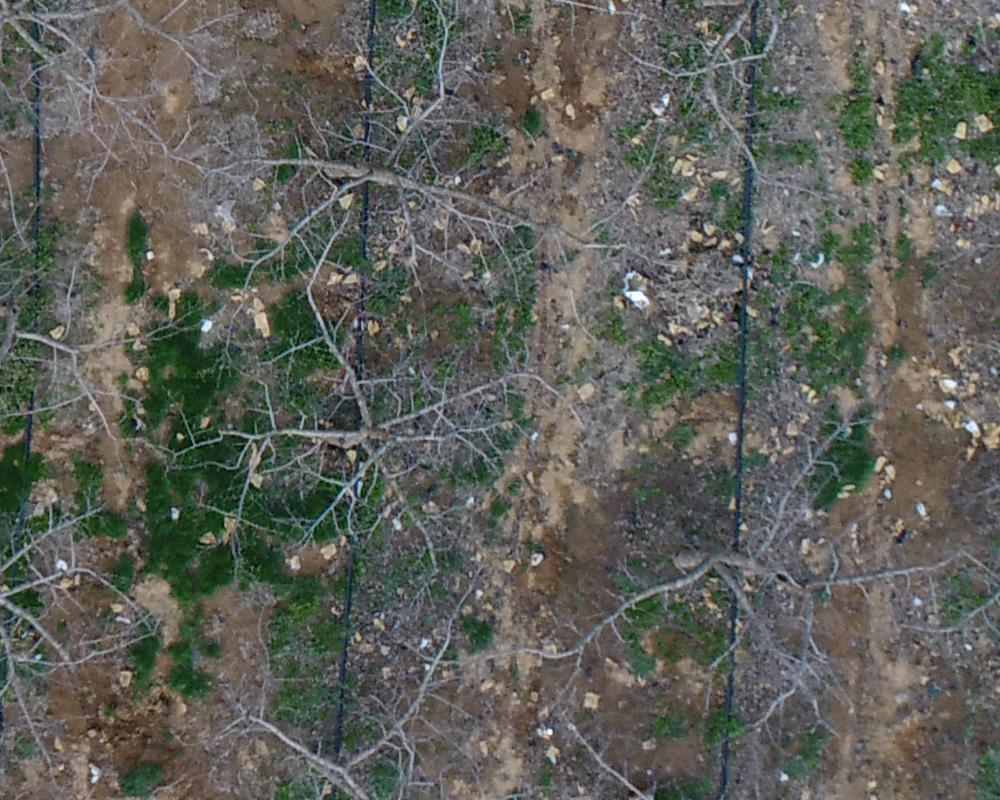apple: (549, 422, 939, 729), (185, 58, 632, 325), (180, 277, 562, 575), (585, 10, 859, 227), (218, 597, 486, 790)
